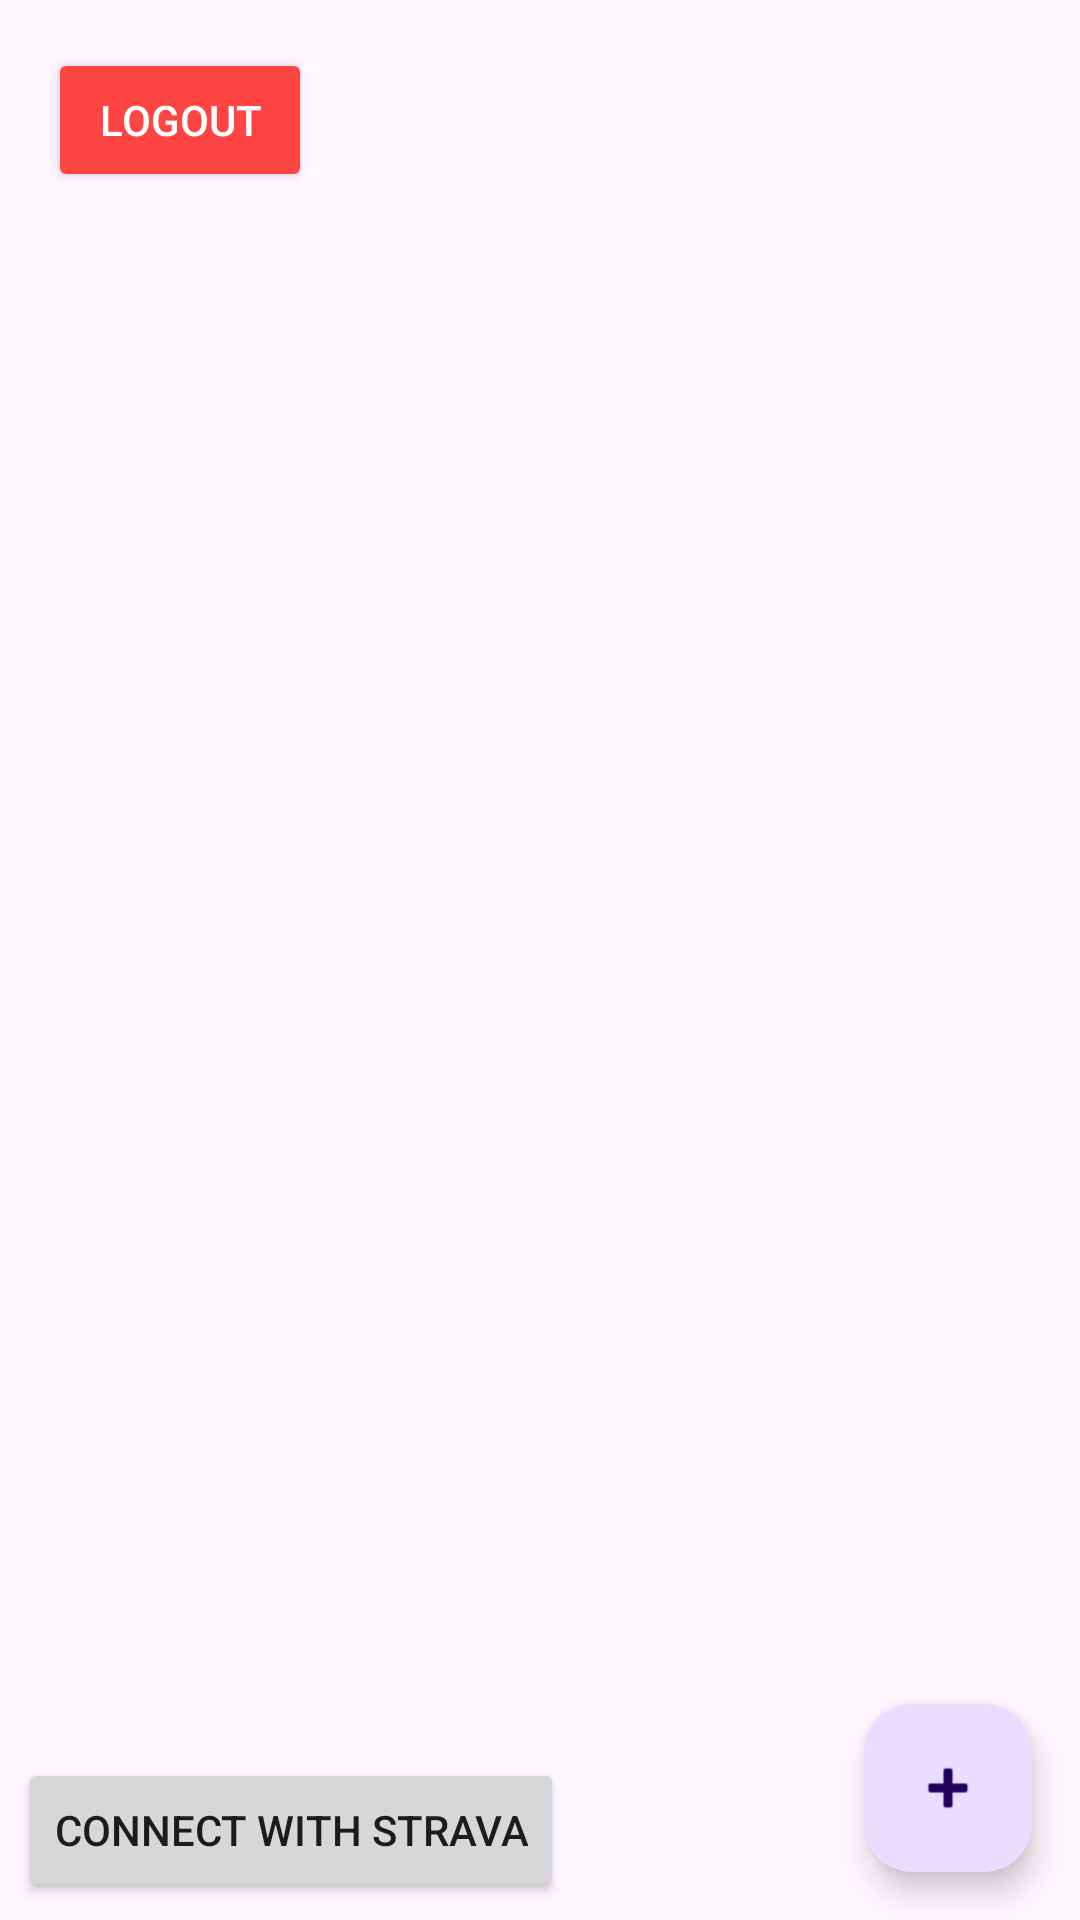

Icons on this 1080 × 1920 Android screen, each with its box as (x1, y1, x2, y2):
Create Challenge: (864, 1704, 1032, 1872)
